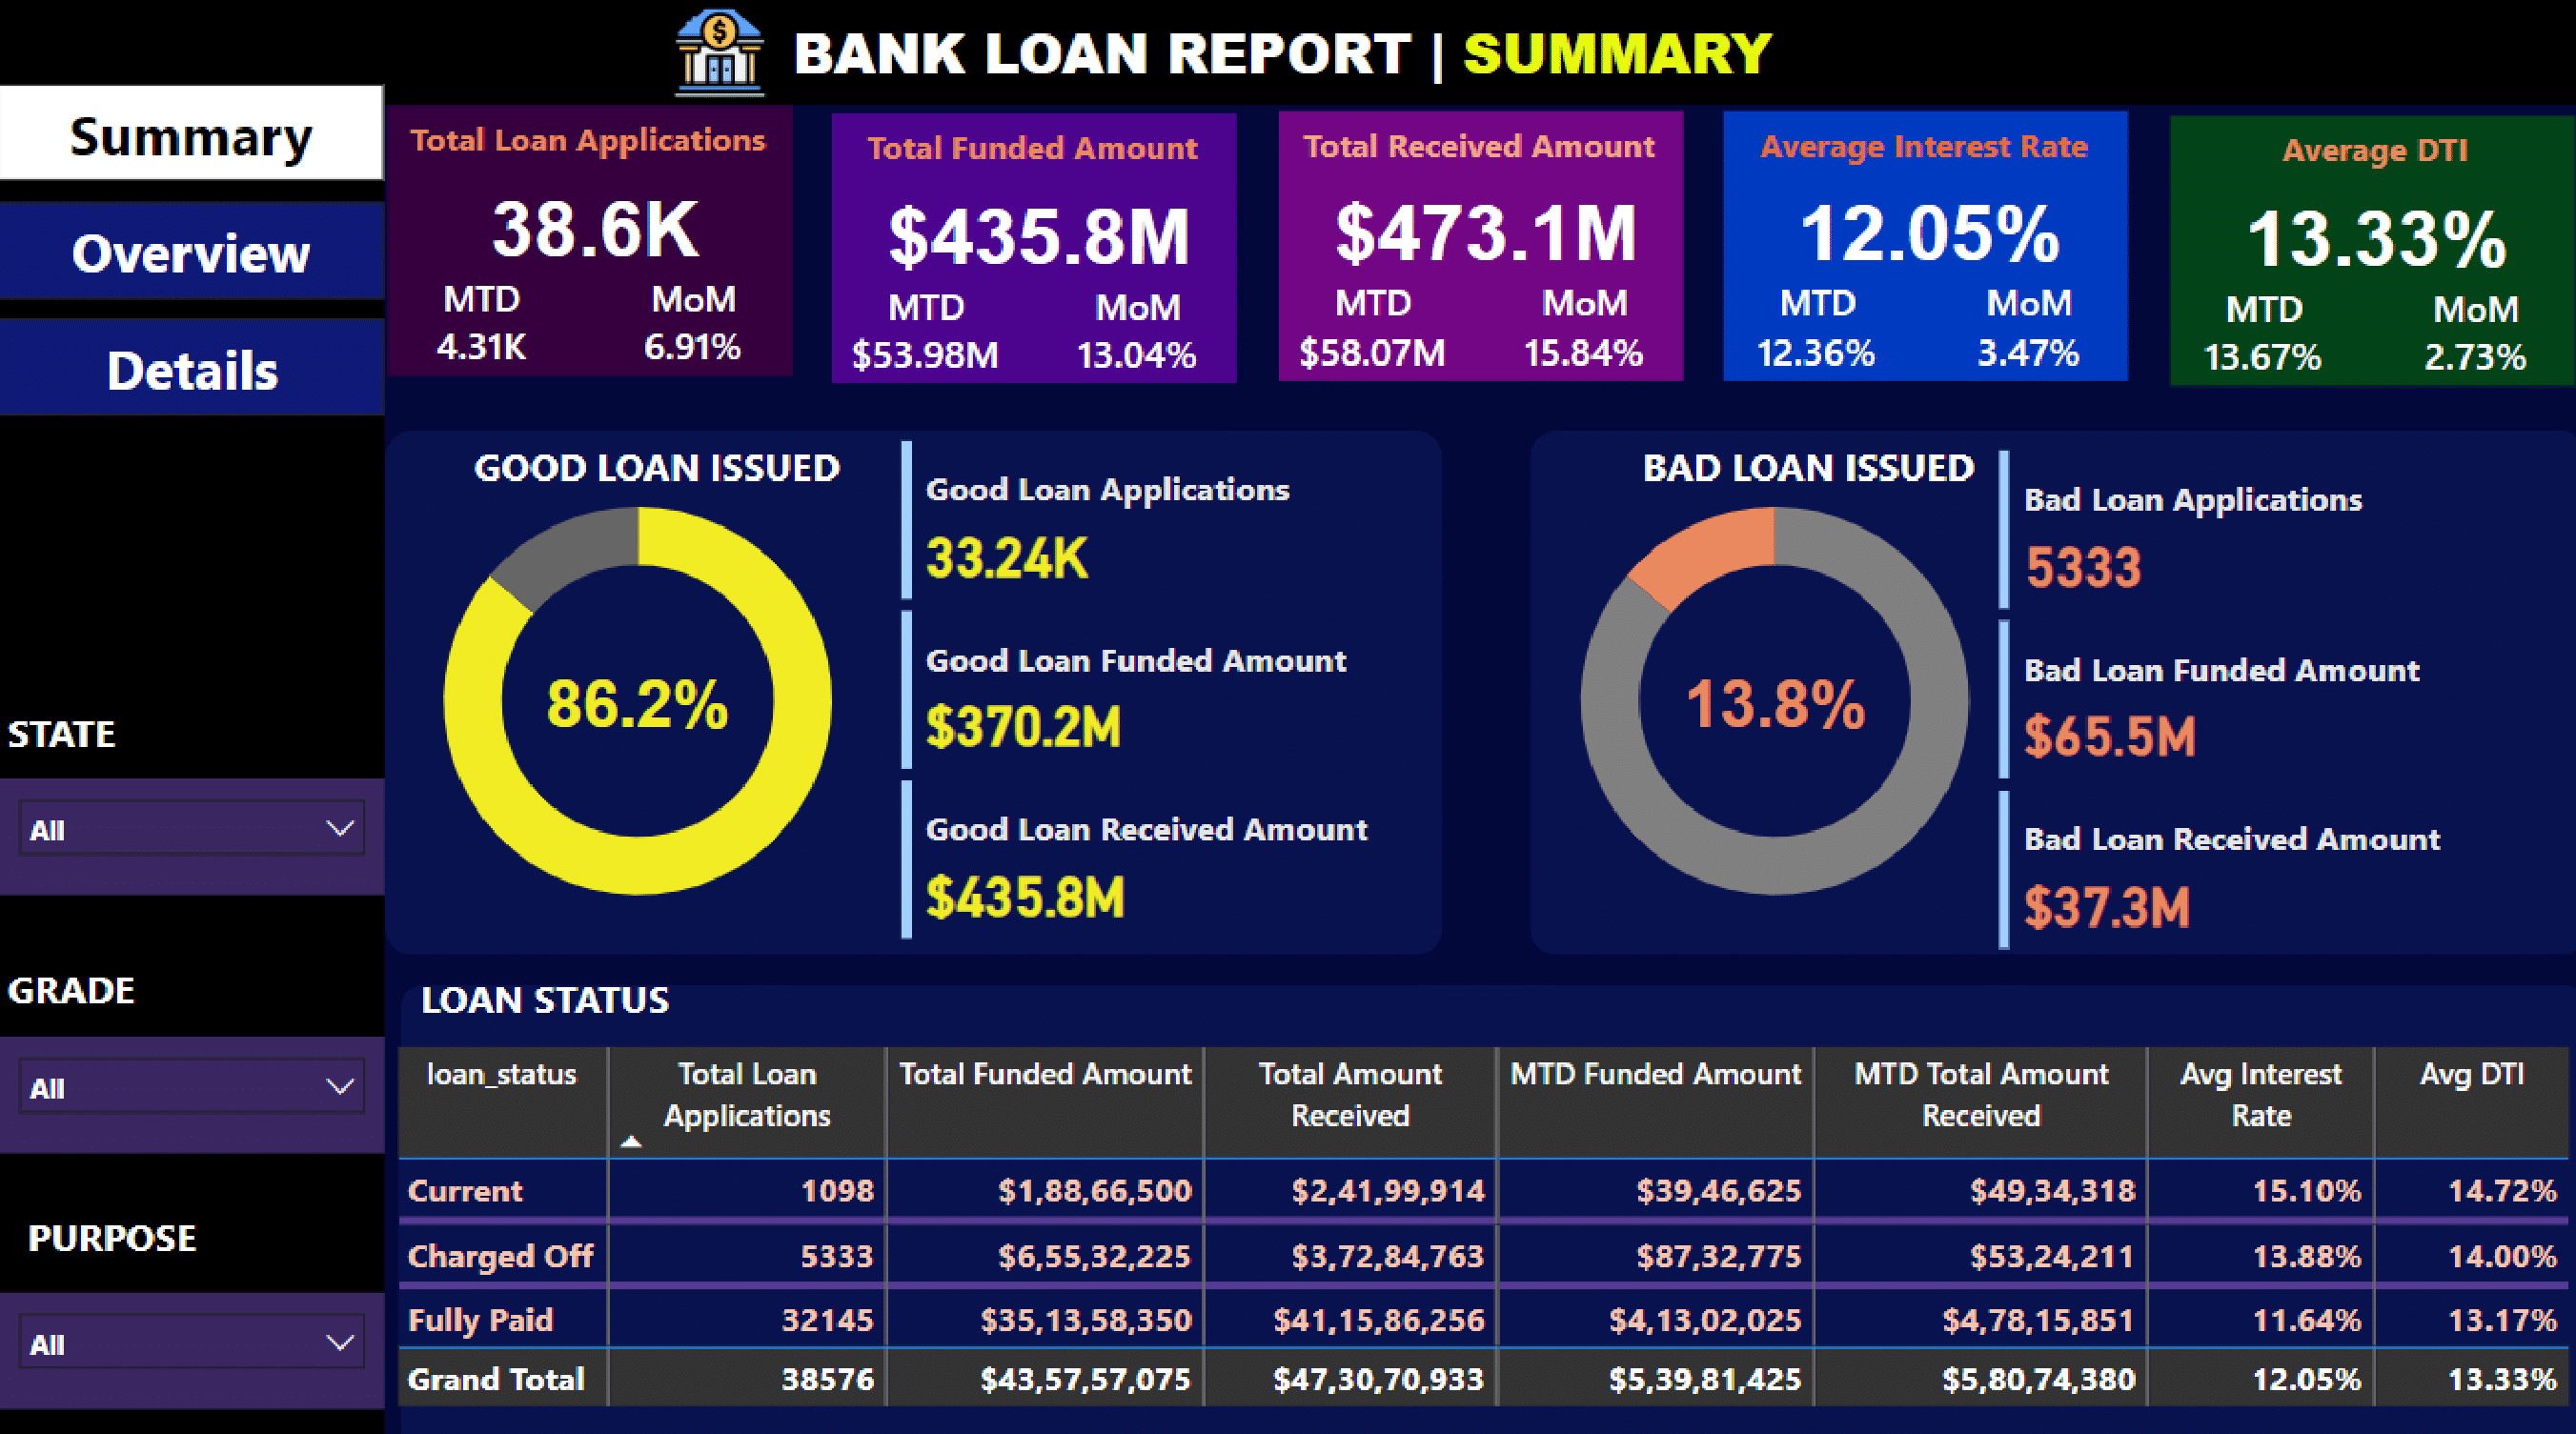

Layout of this report page (visuals, bound fields, positions):
{"tool":"powerbi","page":{"name":"Summary","canvas":[1280,720],"ordinal":0},"visuals":[{"type":"shape","box":[192.2,55,200.2,133.8],"z":0,"group":"g1"},{"type":"shape","box":[0,55.2,191.4,665],"z":0},{"type":"shape","box":[632.8,57.7,200.2,133.8],"z":0,"group":"g4"},{"type":"shape","box":[853.1,57.7,200.2,133.8],"z":0,"group":"g3"},{"type":"shape","box":[412.4,59,200.2,133.8],"z":0,"group":"g2"},{"type":"shape","box":[1073.4,60.3,200.2,133.8],"z":0,"group":"g5"},{"type":"card","fields":{"Values":["Bank_Loan_Data.Total Loan Applications"]},"box":[198.4,89.3,193.1,49.7],"z":1000,"group":"g1"},{"type":"card","fields":{"Values":["Bank_Loan_Data.Total Amount Received"]},"box":[639,92,193.1,49.7],"z":1000,"group":"g4"},{"type":"card","fields":{"Values":["Bank_Loan_Data.Avg Interest Rate"]},"box":[859.3,92,193.1,49.7],"z":1000,"group":"g3"},{"type":"card","fields":{"Values":["Bank_Loan_Data.Total Funded Amount"]},"box":[418.6,93.3,193.1,49.7],"z":1000,"group":"g2"},{"type":"card","fields":{"Values":["Bank_Loan_Data.Avg DTI"]},"box":[1079.6,94.6,193.1,49.7],"z":1000,"group":"g5"},{"type":"shape","box":[757.5,216.2,522.5,258.8],"z":1000},{"type":"shape","box":[0,0,1280.3,55],"z":2000},{"type":"textbox","box":[191.2,55,200.2,56.8],"z":2000,"group":"g1"},{"type":"textbox","box":[631.8,57.7,200.2,56.8],"z":2000,"group":"g4"},{"type":"textbox","box":[852.1,57.7,200.2,56.8],"z":2000,"group":"g3"},{"type":"textbox","box":[411.4,59,200.2,56.8],"z":2000,"group":"g2"},{"type":"textbox","box":[1072.4,60.3,200.2,56.8],"z":2000,"group":"g5"},{"type":"card","title":"MTD","fields":{"Values":["Bank_Loan_Data.MTD Loan Applications"]},"box":[191.2,139,95,49.7],"z":3000,"group":"g1"},{"type":"card","title":"MTD","fields":{"Values":["Bank_Loan_Data.MTD Total Amount Received"]},"box":[631.8,141.7,95,49.7],"z":3000,"group":"g4"},{"type":"card","title":"MTD","fields":{"Values":["Bank_Loan_Data.MTD Avg Interest Rate"]},"box":[852.1,141.7,95,49.7],"z":3000,"group":"g3"},{"type":"card","title":"MTD","fields":{"Values":["Bank_Loan_Data.MTD Funded Amount"]},"box":[411.4,143,95,49.7],"z":3000,"group":"g2"},{"type":"card","title":"MTD","fields":{"Values":["Bank_Loan_Data.MTD Avg DTI"]},"box":[1072.4,144.3,95,49.7],"z":3000,"group":"g5"},{"type":"shape","box":[198.8,490,1081.2,230],"z":3000},{"type":"card","title":"MoM","fields":{"Values":["Bank_Loan_Data.MoM Loan Application"]},"box":[295.4,139,96,49.7],"z":4000,"group":"g1"},{"type":"card","title":"MoM","fields":{"Values":["Bank_Loan_Data.MoM Total Amount Received"]},"box":[736,141.7,96,49.7],"z":4000,"group":"g4"},{"type":"card","title":"MoM","fields":{"Values":["Bank_Loan_Data.MoM Avg Interest Rate"]},"box":[956.3,141.7,96,49.7],"z":4000,"group":"g3"},{"type":"card","title":"MoM","fields":{"Values":["Bank_Loan_Data.MoM Total Funded Amount"]},"box":[515.6,143,96,49.7],"z":4000,"group":"g2"},{"type":"card","title":"MoM","fields":{"Values":["Bank_Loan_Data.MoM Avg DTI"]},"box":[1176.6,144.3,96,49.7],"z":4000,"group":"g5"},{"type":"shape","box":[191.2,216.2,522.5,258.8],"z":4000},{"type":"donutChart","fields":{"Category":["Bank_Loan_Data.Goood v/s Bad Loan"],"Y":["Bank_Loan_Data.Total Loan Applications"]},"box":[191.2,225,250,250],"z":5000},{"type":"textbox","box":[198.8,216.2,253.8,40],"z":6000},{"type":"textbox","box":[387.7,4.9,505.5,50.3],"z":7000},{"type":"group","id":"g1","title":"Group 1","box":[191.2,55,201.2,133.8],"z":8000},{"type":"group","id":"g2","title":"Group 1","box":[411.4,59,201.4,133.4],"z":9000},{"type":"group","id":"g3","title":"Group 1","box":[852.1,57.7,201.4,133.4],"z":10000},{"type":"group","id":"g4","title":"Group 1","box":[631.8,57.7,201.4,133.4],"z":11000},{"type":"group","id":"g5","title":"Group 1","box":[1072.4,60.3,201.4,133.4],"z":12000},{"type":"card","fields":{"Values":["Bank_Loan_Data.Good Loan %"]},"box":[253.8,325,125,50],"z":13000},{"type":"cardVisual","fields":{"Data":["Bank_Loan_Data.Good Loan Applications","Bank_Loan_Data.Good Loan Funded Amount","Bank_Loan_Data.Good Loan Received Amount"]},"box":[441.2,216.2,272.5,257.5],"z":14000},{"type":"donutChart","fields":{"Category":["Bank_Loan_Data.Goood v/s Bad Loan"],"Y":["Bank_Loan_Data.Total Loan Applications"]},"box":[753.8,225,250,250],"z":15000},{"type":"textbox","box":[753.8,216.2,282.5,40],"z":16000},{"type":"card","fields":{"Values":["Bank_Loan_Data.Bad Loan %"]},"box":[816.2,325,125,50],"z":17000},{"type":"cardVisual","fields":{"Data":["Bank_Loan_Data.Bad Loan Applications","Bank_Loan_Data.Bad Loan Funded Amount","Bank_Loan_Data.Bad Loan Received Amount"]},"box":[983.8,221.2,272.5,257.5],"z":18000},{"type":"tableEx","fields":{"Values":["Bank_Loan_Data.loan_status","Bank_Loan_Data.Total Loan Applications","Bank_Loan_Data.Total Funded Amount","Bank_Loan_Data.Total Amount Received","Bank_Loan_Data.MTD Funded Amount","Bank_Loan_Data.MTD Total Amount Received","Bank_Loan_Data.Avg Interest Rate","Bank_Loan_Data.Avg DTI"]},"box":[191.2,515,1088.8,205],"z":19000},{"type":"textbox","box":[198.8,478.8,220,40],"z":20000},{"type":"slicer","fields":{"Values":["Bank_Loan_Data.address_state"]},"box":[0,387.5,191.2,57.5],"z":21000},{"type":"textbox","box":[0,347.5,191.2,40],"z":22000},{"type":"slicer","fields":{"Values":["Bank_Loan_Data.grade"]},"box":[0,515,191.2,57.5],"z":23000},{"type":"textbox","box":[0,473.8,191.2,45],"z":24000},{"type":"slicer","fields":{"Values":["Bank_Loan_Data.purpose"]},"box":[0,641.7,191.4,57.7],"z":25000},{"type":"textbox","box":[9.8,596.3,181.6,45.4],"z":26000},{"type":"pageNavigator","box":[0,44.2,191.4,166.9],"z":26001},{"type":"image","box":[322.7,0,68.7,58.9],"z":26002}]}

Visuals, with their boxes in screenshot pixels (x1, y1, x2, y2), scaled from the page's 1280x720 canvas onto the 2576x1434 screenshot:
shape: {"left": 387, "top": 110, "right": 790, "bottom": 376}
shape: {"left": 0, "top": 110, "right": 385, "bottom": 1433}
shape: {"left": 1273, "top": 115, "right": 1676, "bottom": 381}
shape: {"left": 1717, "top": 115, "right": 2120, "bottom": 381}
shape: {"left": 830, "top": 117, "right": 1233, "bottom": 384}
shape: {"left": 2160, "top": 120, "right": 2563, "bottom": 387}
card - Bank_Loan_Data.Total Loan Applications: {"left": 399, "top": 178, "right": 788, "bottom": 277}
card - Bank_Loan_Data.Total Amount Received: {"left": 1286, "top": 183, "right": 1674, "bottom": 282}
card - Bank_Loan_Data.Avg Interest Rate: {"left": 1730, "top": 183, "right": 2118, "bottom": 282}
card - Bank_Loan_Data.Total Funded Amount: {"left": 842, "top": 186, "right": 1231, "bottom": 285}
card - Bank_Loan_Data.Avg DTI: {"left": 2173, "top": 189, "right": 2562, "bottom": 288}
shape: {"left": 1525, "top": 431, "right": 2575, "bottom": 946}
shape: {"left": 0, "top": 0, "right": 2575, "bottom": 110}
textbox: {"left": 385, "top": 110, "right": 788, "bottom": 223}
textbox: {"left": 1271, "top": 115, "right": 1674, "bottom": 228}
textbox: {"left": 1714, "top": 115, "right": 2118, "bottom": 228}
textbox: {"left": 828, "top": 117, "right": 1231, "bottom": 231}
textbox: {"left": 2159, "top": 120, "right": 2561, "bottom": 233}
"MTD" card: {"left": 385, "top": 277, "right": 576, "bottom": 375}
"MTD" card: {"left": 1271, "top": 282, "right": 1463, "bottom": 381}
"MTD" card: {"left": 1714, "top": 282, "right": 1906, "bottom": 381}
"MTD" card: {"left": 828, "top": 285, "right": 1019, "bottom": 384}
"MTD" card: {"left": 2159, "top": 288, "right": 2349, "bottom": 387}
shape: {"left": 400, "top": 976, "right": 2575, "bottom": 1433}
"MoM" card: {"left": 595, "top": 277, "right": 788, "bottom": 375}
"MoM" card: {"left": 1481, "top": 282, "right": 1674, "bottom": 381}
"MoM" card: {"left": 1924, "top": 282, "right": 2118, "bottom": 381}
"MoM" card: {"left": 1038, "top": 285, "right": 1231, "bottom": 384}
"MoM" card: {"left": 2368, "top": 288, "right": 2561, "bottom": 387}
shape: {"left": 385, "top": 431, "right": 1436, "bottom": 946}
donutChart - Bank_Loan_Data.Goood v/s Bad Loan x Bank_Loan_Data.Total Loan Applications: {"left": 385, "top": 448, "right": 888, "bottom": 946}
textbox: {"left": 400, "top": 431, "right": 911, "bottom": 511}
textbox: {"left": 781, "top": 10, "right": 1797, "bottom": 110}
"Group 1" group: {"left": 385, "top": 110, "right": 790, "bottom": 376}
"Group 1" group: {"left": 828, "top": 117, "right": 1233, "bottom": 383}
"Group 1" group: {"left": 1714, "top": 115, "right": 2120, "bottom": 380}
"Group 1" group: {"left": 1271, "top": 115, "right": 1676, "bottom": 380}
"Group 1" group: {"left": 2159, "top": 120, "right": 2564, "bottom": 386}
card - Bank_Loan_Data.Good Loan %: {"left": 511, "top": 647, "right": 762, "bottom": 747}
cardVisual - Bank_Loan_Data.Good Loan Applications x Bank_Loan_Data.Good Loan Funded Amount: {"left": 888, "top": 431, "right": 1436, "bottom": 943}
donutChart - Bank_Loan_Data.Goood v/s Bad Loan x Bank_Loan_Data.Total Loan Applications: {"left": 1517, "top": 448, "right": 2020, "bottom": 946}
textbox: {"left": 1517, "top": 431, "right": 2085, "bottom": 511}
card - Bank_Loan_Data.Bad Loan %: {"left": 1643, "top": 647, "right": 1895, "bottom": 747}
cardVisual - Bank_Loan_Data.Bad Loan Applications x Bank_Loan_Data.Bad Loan Funded Amount: {"left": 1980, "top": 440, "right": 2528, "bottom": 954}
tableEx - Bank_Loan_Data.loan_status x Bank_Loan_Data.Total Loan Applications: {"left": 385, "top": 1025, "right": 2575, "bottom": 1433}
textbox: {"left": 400, "top": 954, "right": 842, "bottom": 1033}
slicer - Bank_Loan_Data.address_state: {"left": 0, "top": 772, "right": 385, "bottom": 886}
textbox: {"left": 0, "top": 692, "right": 385, "bottom": 772}
slicer - Bank_Loan_Data.grade: {"left": 0, "top": 1025, "right": 385, "bottom": 1141}
textbox: {"left": 0, "top": 943, "right": 385, "bottom": 1033}
slicer - Bank_Loan_Data.purpose: {"left": 0, "top": 1278, "right": 385, "bottom": 1393}
textbox: {"left": 20, "top": 1187, "right": 385, "bottom": 1278}
pageNavigator: {"left": 0, "top": 88, "right": 385, "bottom": 420}
image: {"left": 649, "top": 0, "right": 788, "bottom": 117}
